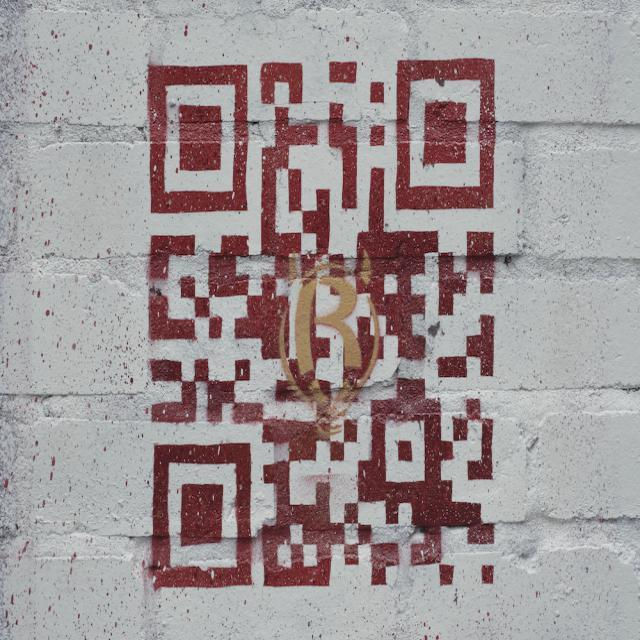qrcode: (148, 60, 495, 589)
